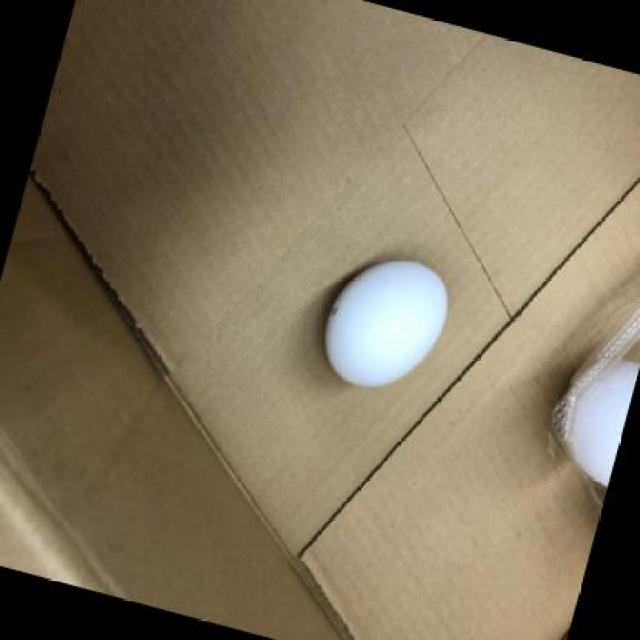egg: (320, 253, 452, 393)
